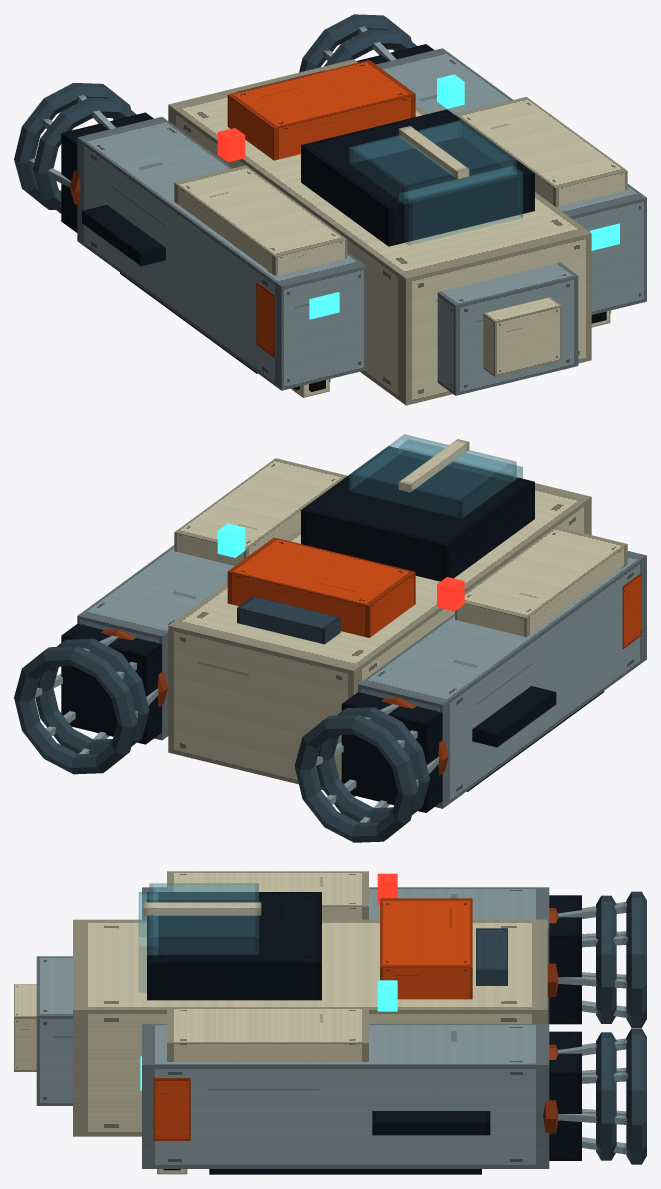
Rendered from ship_03_arrivalsshuttle.glb.
3 renders of one model, top to bottom at view 1: azimuth 30°, elevation 25°; view 2: azimuth 150°, elevation 25°; view 3: azimuth 270°, elevation 25°, orthographic.
Parts seen in each view (by area): view 1: Ship_03_ArrivalsShuttle_Hull / module; view 2: Ship_03_ArrivalsShuttle_Hull / module; view 3: Ship_03_ArrivalsShuttle_Hull / module.
Part boxes in pixels (x1,y1,x2,y2): Ship_03_ArrivalsShuttle_Hull / module: [14, 14, 646, 405]; Ship_03_ArrivalsShuttle_Hull / module: [14, 434, 646, 842]; Ship_03_ArrivalsShuttle_Hull / module: [14, 871, 646, 1174].
Bounding box in the file's own units: 2.84 × 1.36 × 3.76.
Materials: 10 (10 with a texture image).
